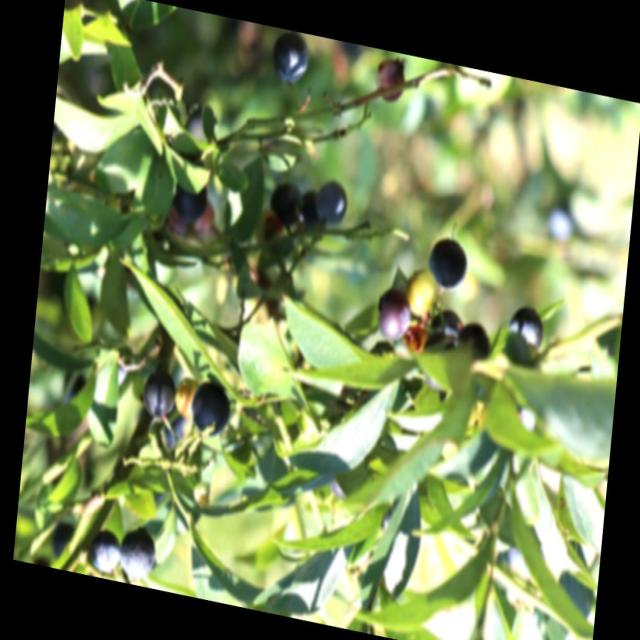blueberry: (186, 375, 234, 445), (425, 229, 470, 297), (266, 25, 312, 90), (114, 522, 162, 584), (372, 283, 413, 346), (138, 363, 178, 425), (506, 296, 548, 354), (370, 47, 409, 107), (81, 522, 122, 579), (264, 174, 304, 232), (170, 168, 210, 224), (311, 173, 348, 228), (458, 318, 492, 362)
blueberry-unripe: (404, 266, 439, 322), (174, 376, 202, 416)
